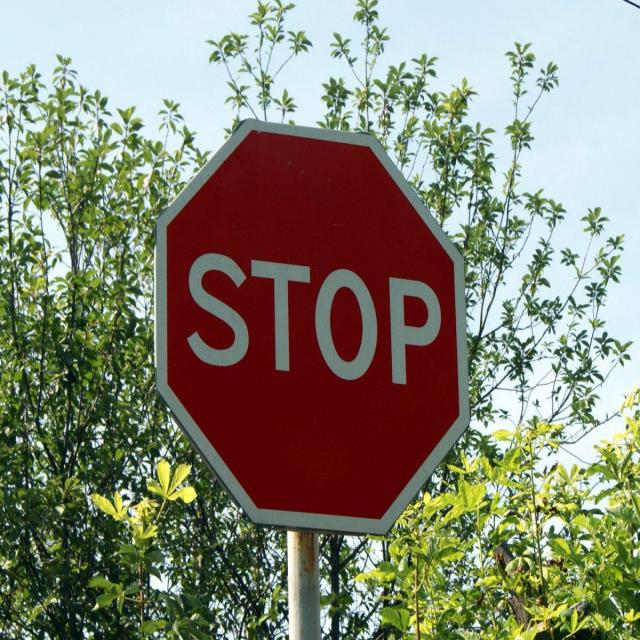stop: (152, 109, 470, 538)
